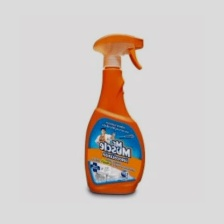cleaning_solution: (83, 30, 149, 197)
